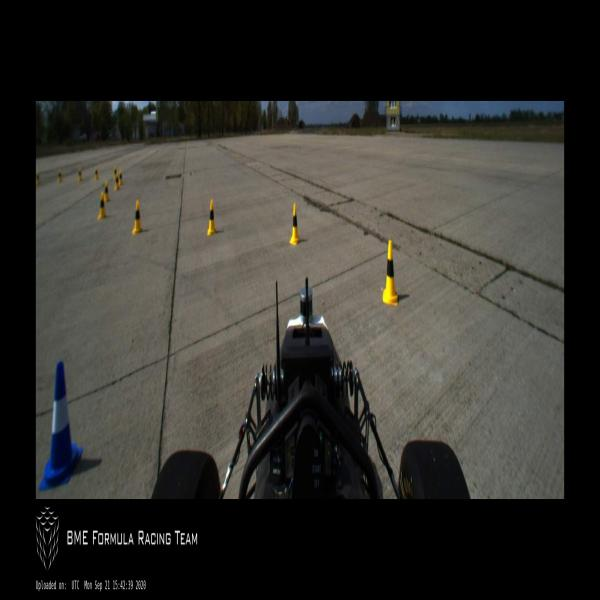blue_cone: (39, 361, 84, 491)
yellow_cone: (382, 240, 398, 305), (289, 203, 300, 246), (132, 199, 142, 234), (208, 201, 216, 235), (99, 192, 106, 219), (103, 182, 110, 202), (114, 172, 120, 190), (78, 167, 82, 182), (36, 169, 40, 184), (119, 171, 123, 185), (94, 168, 98, 180), (114, 164, 117, 179), (58, 169, 61, 183)
